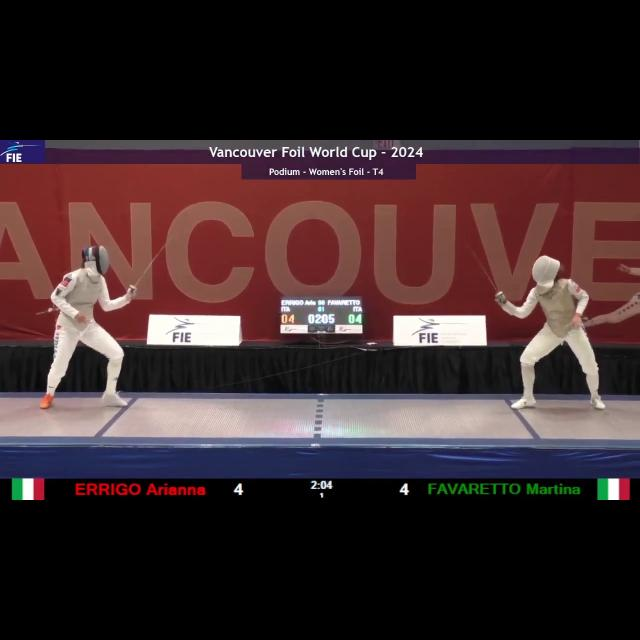blade: (458, 235, 502, 299), (130, 232, 176, 292)
